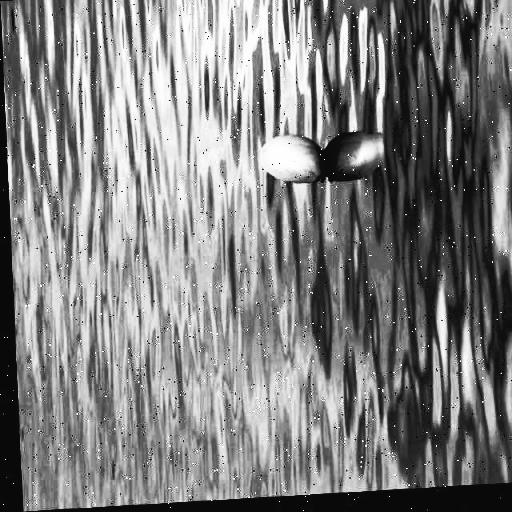balloon: (253, 133, 325, 189)
